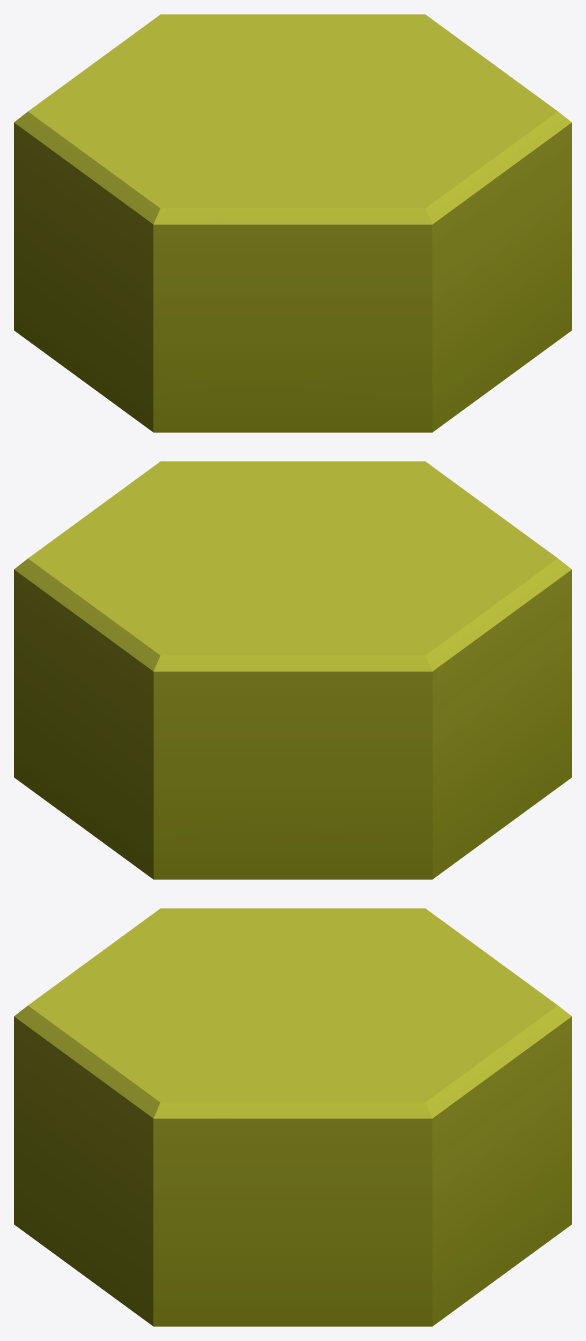
File: b_hexa_sol_herbe.glb
The picture shows the model from 3 angles, top to bottom: view 1: azimuth 30°, elevation 25°; view 2: azimuth 150°, elevation 25°; view 3: azimuth 270°, elevation 25°; orthographic projection.
Parts seen in each view (by area): view 1: b_hexa_sol_herbe; view 2: b_hexa_sol_herbe; view 3: b_hexa_sol_herbe.
Boxes of the visible parts, x1,y1,x2,y2 form: b_hexa_sol_herbe: (14, 14, 571, 432); b_hexa_sol_herbe: (14, 461, 571, 879); b_hexa_sol_herbe: (14, 908, 571, 1326).
Size of the model in its own units: 2 by 1 by 2.31.
Materials: 1 (1 with a texture image).
